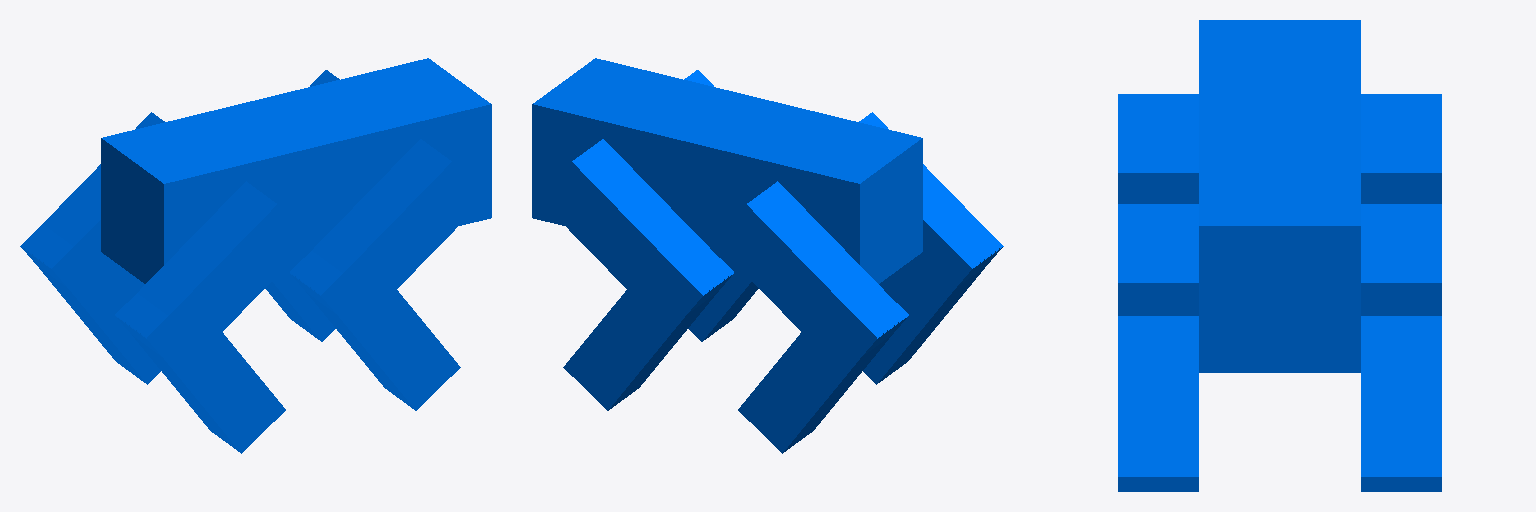
The robot description file, URDF, robot "quadrus":
<?xml version='1.0'?>
<robot name="quadrus">

  <!-- Base Link -->
  <link name="base_link">
    <visual>
      <origin xyz="0 0 0" rpy="0 0 0" />
      <geometry>
          <box size="0.3 0.10 0.10"/>
      </geometry>
      <material name="blue">
        <color rgba="0 0.5 1 1"/>
      </material>
    </visual>

  </link>
  
  <!-- ____________________________________________________________ -->
	<!-- Back Right UpperLeg -->	
	<link name="back_right_upperleg">
	  <visual>
	    <origin xyz="0.05 0 0" rpy="0 0 0" />
	    <geometry>
	        <box size="0.15 0.05 0.05"/>
	    </geometry>
	    <material name="blue">
	      <color rgba="0 0.5 1 1"/>
	    </material>
	  </visual>
  </link>

  <joint name="joint_back_right_upperleg" type="continuous">
    <parent link="base_link"/>
    <child link="back_right_upperleg"/>
    <origin xyz="-0.08 0.075 0" rpy="0 2.5 0" /> 
    <axis xyz="1 0 0" />
  </joint>
  
  	<!-- Back Right LowerLeg -->	
	<link name="back_right_lowerleg">
	  <visual>
	    <origin xyz="0.05 0 0" rpy="0 0 0" />
	    <geometry>
	        <box size="0.15 0.05 0.05"/>
	    </geometry>
	    <material name="blue">
	      <color rgba="0 0.5 1 1"/>
	    </material>
	  </visual>
  </link>

  <joint name="joint_back_right_lowerleg" type="continuous">
    <parent link="back_right_upperleg"/>
    <child link="back_right_lowerleg"/>
    <origin xyz="0.10 0 0" rpy="0 -1.55 0" /> 
    <axis xyz="1 0 0" />
  </joint>

  <!-- ____________________________________________________________ -->
	<!-- Back Left UpperLeg -->	
	<link name="back_left_upperleg">
	  <visual>
	    <origin xyz="0.05 0 0" rpy="0 0 0" />
	    <geometry>
	        <box size="0.15 0.05 0.05"/>
	    </geometry>
	    <material name="blue">
	      <color rgba="0 0.5 1 1"/>
	    </material>
	  </visual>
  </link>

  <joint name="joint_back_left_upperleg" type="continuous">
    <parent link="base_link"/>
    <child link="back_left_upperleg"/>
    <origin xyz="-0.08 -0.075 0" rpy="0 2.5 0" /> 
    <axis xyz="1 0 0" />
  </joint>
  
  	<!-- Back Right LowerLeg -->	
	<link name="back_left_lowerleg">
	  <visual>
	    <origin xyz="0.05 0 0" rpy="0 0 0" />
	    <geometry>
	        <box size="0.15 0.05 0.05"/>
	    </geometry>
	    <material name="blue">
	      <color rgba="0 0.5 1 1"/>
	    </material>
	  </visual>
  </link>

  <joint name="joint_back_left_lowerleg" type="continuous">
    <parent link="back_left_upperleg"/>
    <child link="back_left_lowerleg"/>
    <origin xyz="0.10 0 0" rpy="0 -1.55 0" /> 
    <axis xyz="1 0 0" />
  </joint>  
  
  <!-- ____________________________________________________________ -->
	<!-- Front Right UpperLeg -->	
	<link name="front_right_upperleg">
	  <visual>
	    <origin xyz="0.05 0 0" rpy="0 0 0" />
	    <geometry>
	        <box size="0.15 0.05 0.05"/>
	    </geometry>
	    <material name="blue">
	      <color rgba="0 0.5 1 1"/>
	    </material>
	  </visual>
  </link>

  <joint name="joint_front_right_upperleg" type="continuous">
    <parent link="base_link"/>
    <child link="front_right_upperleg"/>
    <origin xyz="0.08 0.075 0" rpy="0 2.5 0" /> 
    <axis xyz="1 0 0" />
  </joint>
  
  	<!-- Front Right LowerLeg -->	
	<link name="front_right_lowerleg">
	  <visual>
	    <origin xyz="0.05 0 0" rpy="0 0 0" />
	    <geometry>
	        <box size="0.15 0.05 0.05"/>
	    </geometry>
	    <material name="blue">
	      <color rgba="0 0.5 1 1"/>
	    </material>
	  </visual>
  </link>

  <joint name="joint_front_right_lowerleg" type="continuous">
    <parent link="front_right_upperleg"/>
    <child link="front_right_lowerleg"/>
    <origin xyz="0.10 0 0" rpy="0 -1.55 0" /> 
    <axis xyz="1 0 0" />
  </joint>

  <!-- ____________________________________________________________ -->
	<!-- Front Left UpperLeg -->	
	<link name="front_left_upperleg">
	  <visual>
	    <origin xyz="0.05 0 0" rpy="0 0 0" />
	    <geometry>
	        <box size="0.15 0.05 0.05"/>
	    </geometry>
	    <material name="blue">
	      <color rgba="0 0.5 1 1"/>
	    </material>
	  </visual>
  </link>

  <joint name="joint_front_left_upperleg" type="continuous">
    <parent link="base_link"/>
    <child link="front_left_upperleg"/>
    <origin xyz="0.08 -0.075 0" rpy="0 2.5 0" /> 
    <axis xyz="1 0 0" />
  </joint>
  
  	<!-- Front Right LowerLeg -->	
	<link name="front_left_lowerleg">
	  <visual>
	    <origin xyz="0.05 0 0" rpy="0 0 0" />
	    <geometry>
	        <box size="0.15 0.05 0.05"/>
	    </geometry>
	    <material name="blue">
	      <color rgba="0 0.5 1 1"/>
	    </material>
	  </visual>
  </link>

  <joint name="joint_front_left_lowerleg" type="continuous">
    <parent link="front_left_upperleg"/>
    <child link="front_left_lowerleg"/>
    <origin xyz="0.10 0 0" rpy="0 -1.55 0" /> 
    <axis xyz="1 0 0" />
  </joint>
  
</robot>

--- Render facts (derived) ---
Views: 3 orthographic renders of the robot side by side, from view 1: azimuth 30°, elevation 25°; view 2: azimuth 150°, elevation 25°; view 3: azimuth 270°, elevation 25°.
Model quadrus with 9 links and 8 joints (8 continuous), rooted at base_link, posed every joint at zero.
Links seen in each view (by area): view 1: base_link, back_left_upperleg, front_left_upperleg, front_left_lowerleg, back_left_lowerleg, back_right_lowerleg, back_right_upperleg, front_right_lowerleg; view 2: base_link, back_right_upperleg, front_right_upperleg, front_right_lowerleg, back_right_lowerleg, back_left_lowerleg, back_left_upperleg, front_left_lowerleg; view 3: base_link, front_right_lowerleg, front_left_lowerleg, front_right_upperleg, front_left_upperleg, back_right_upperleg, back_left_upperleg.
Link boxes in pixels (box(x1,y1,x2,y2)): base_link: box(101, 58, 491, 283); back_left_upperleg: box(115, 181, 309, 375); front_left_upperleg: box(290, 139, 484, 333); front_left_lowerleg: box(290, 251, 460, 410); back_left_lowerleg: box(115, 293, 285, 453); back_right_lowerleg: box(21, 224, 160, 384); back_right_upperleg: box(20, 112, 164, 306); front_right_lowerleg: box(265, 266, 335, 341); base_link: box(532, 58, 922, 283); back_right_upperleg: box(714, 181, 908, 374); front_right_upperleg: box(539, 139, 733, 333); front_right_lowerleg: box(563, 251, 733, 410); back_right_lowerleg: box(738, 293, 908, 453); back_left_lowerleg: box(863, 224, 1002, 384); back_left_upperleg: box(859, 112, 1003, 305); front_left_lowerleg: box(688, 266, 758, 341); base_link: box(1199, 20, 1360, 372); front_right_lowerleg: box(1361, 316, 1441, 491); front_left_lowerleg: box(1118, 316, 1198, 491); front_right_upperleg: box(1361, 204, 1441, 315); front_left_upperleg: box(1118, 204, 1198, 315); back_right_upperleg: box(1361, 94, 1441, 203); back_left_upperleg: box(1118, 94, 1198, 203).
Bounding box of the posed robot: 0.3451 × 0.2 × 0.2261 m (x, y, z).
Geometry: primitives only (box / cylinder / sphere), no mesh files.